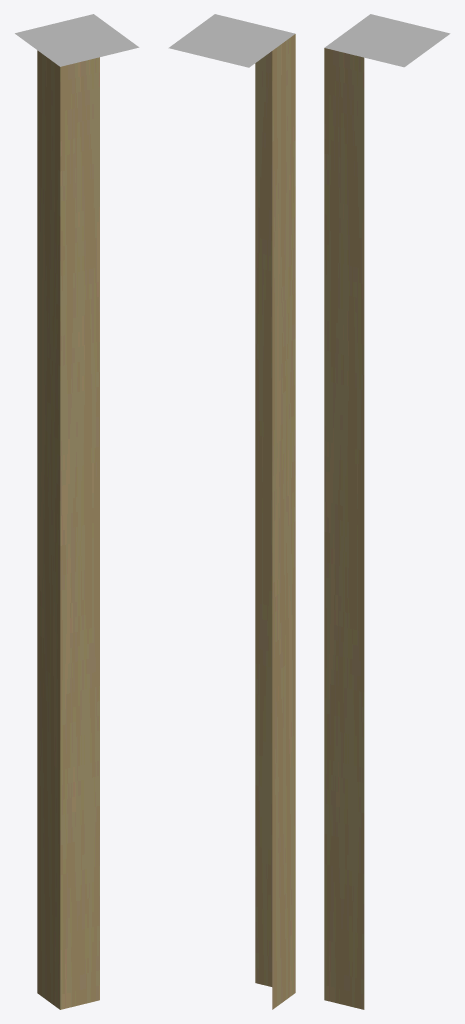
File: W_I__Eckverschluß [Beige]_294.glb
3 views of the same model, side by side, from view 1: azimuth 30°, elevation 25°; view 2: azimuth 150°, elevation 25°; view 3: azimuth 330°, elevation 25° (orthographic).
Parts seen in each view (by area): view 1: pPlaneShape7, pPlaneShape11; view 2: pPlaneShape7, pPlaneShape11; view 3: pPlaneShape7, pPlaneShape11.
Part boxes in pixels (x1,y1,x2,y2): pPlaneShape7: (37,50,99,1009); pPlaneShape11: (15,14,139,66); pPlaneShape7: (255,34,295,1009); pPlaneShape11: (168,14,295,67); pPlaneShape7: (324,48,364,1009); pPlaneShape11: (324,14,450,67).
Size of the model in its own units: 0.0307 by 0.3486 by 0.0307.
2 materials, 1 textured.
